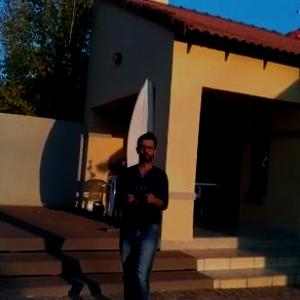follow: (109, 126, 173, 299)
